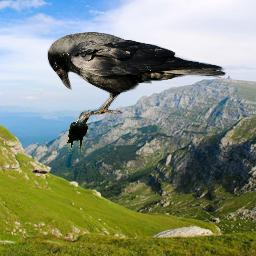Crow: (47, 31, 228, 122), (66, 109, 93, 154)
